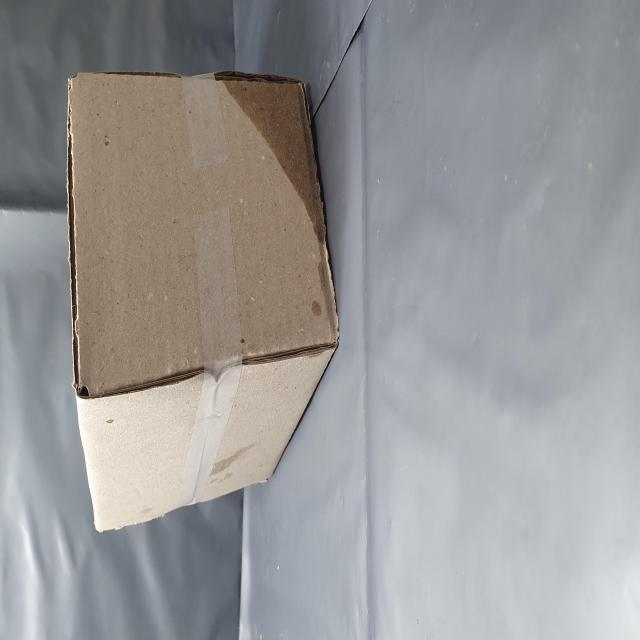wet: (222, 384, 321, 582)
